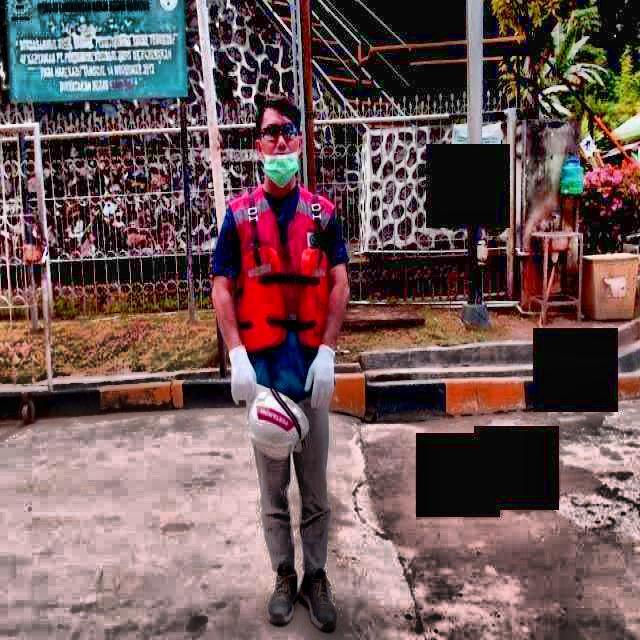safety_helmet: (244, 381, 309, 462)
safety_jacket: (226, 192, 337, 403)
